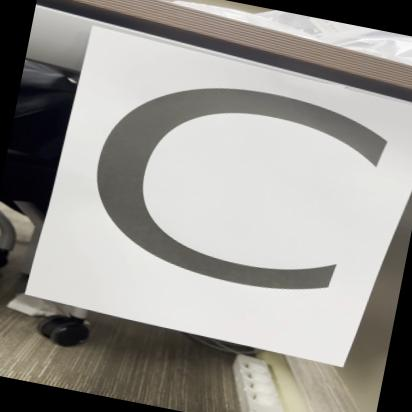seat: (51, 31, 412, 374)
